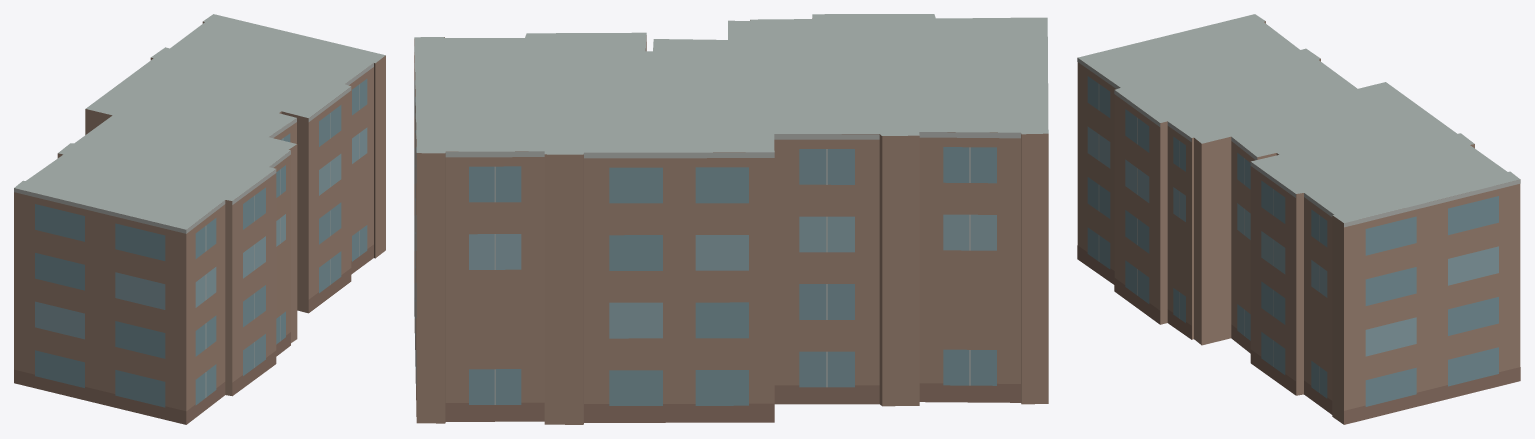
The model's file is survey-upis-32532067.glb.
3 renders of one model, left to right at view 1: azimuth 30°, elevation 25°; view 2: azimuth 150°, elevation 25°; view 3: azimuth 270°, elevation 25°, orthographic. The views are drawn at different scales.
Visible parts, largest first — view 1: survey-upis-32532067.tmp; view 2: survey-upis-32532067.tmp; view 3: survey-upis-32532067.tmp.
Boxes of the visible parts, <box> form: survey-upis-32532067.tmp: <box>14,14,385,424</box>; survey-upis-32532067.tmp: <box>414,14,1048,424</box>; survey-upis-32532067.tmp: <box>1077,14,1520,424</box>.
Size of the model in its own units: 25.82 by 11.6 by 23.1.
